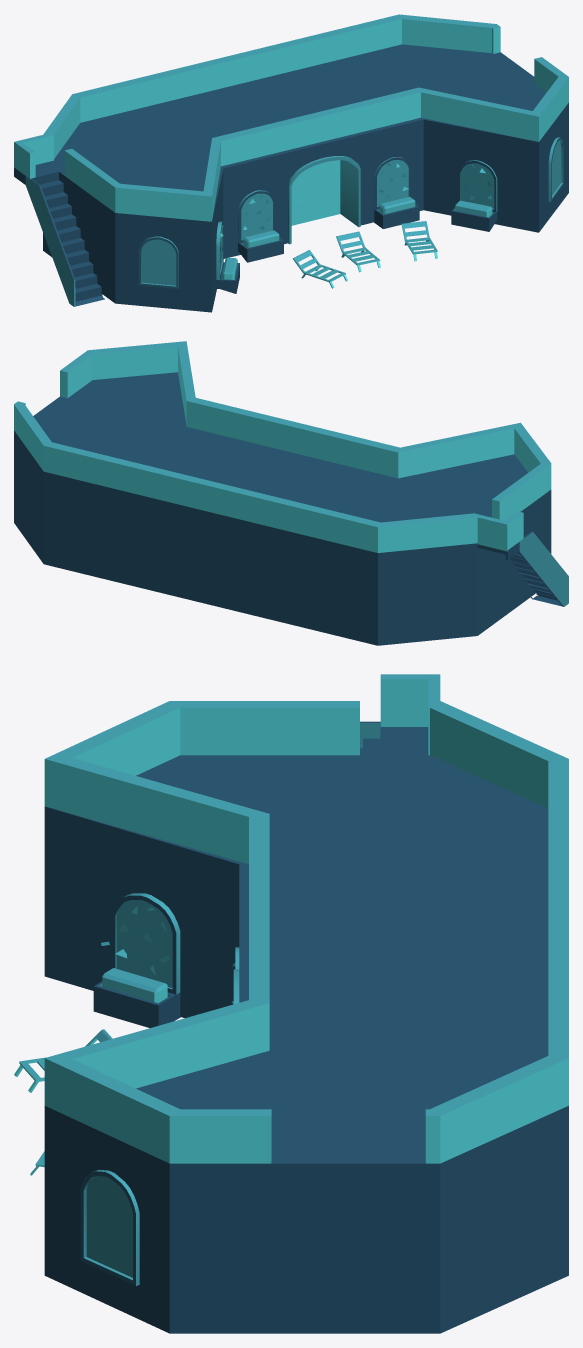
File: Green_Villa_LV2.FBX
3 views of the same model, one above another, from view 1: azimuth 30°, elevation 25°; view 2: azimuth 150°, elevation 25°; view 3: azimuth 270°, elevation 25° (orthographic). The views are drawn at different scales.
Parts seen in each view (by area): view 1: Green_Villa; view 2: Green_Villa; view 3: Green_Villa.
Part boxes in pixels (bbox=[...]): Green_Villa: bbox=[14, 14, 568, 312]; Green_Villa: bbox=[14, 341, 568, 645]; Green_Villa: bbox=[14, 674, 568, 1333].
Bounding box in the file's own units: 31.38 × 7.53 × 16.66.
